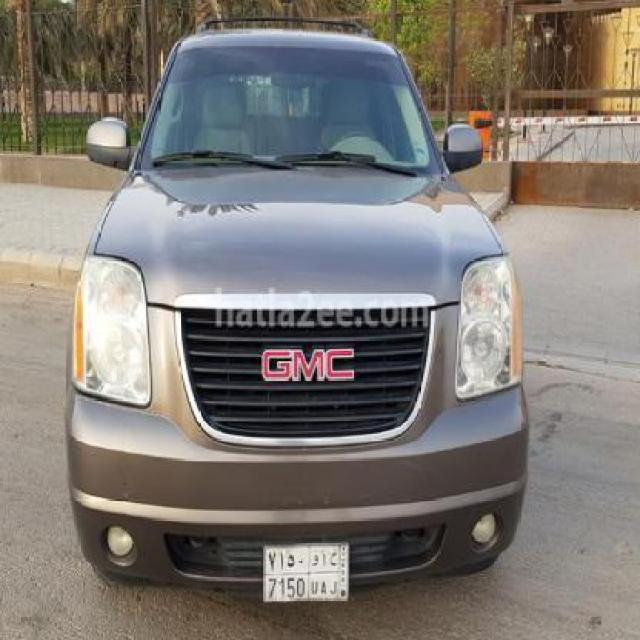license_plate: (262, 541, 350, 604)
